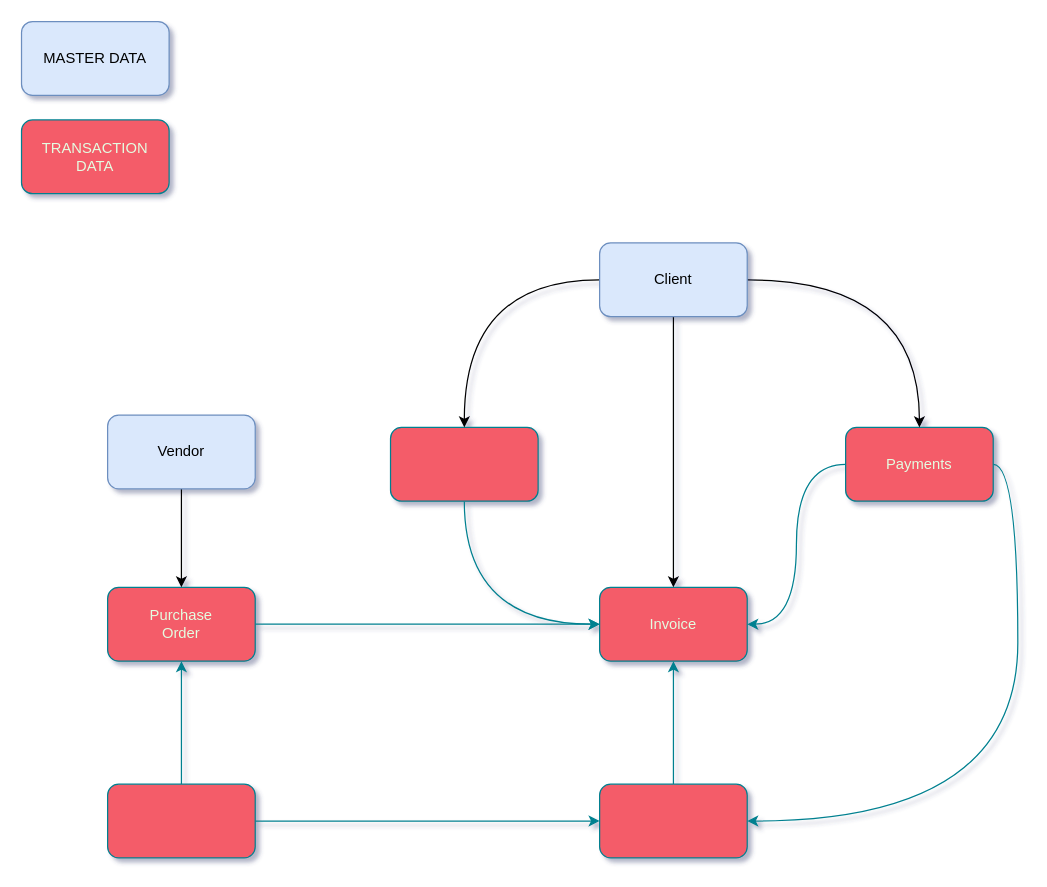
The diagram is 1047 pixels wide and 887 high, and some of its shapes have lost their labels. The box of each missing label's shape, as (x1, y1, x2, y2) in pixels:
Expenses: (106, 783, 255, 858)
Quote: (389, 426, 538, 501)
Transactions: (598, 783, 747, 858)
